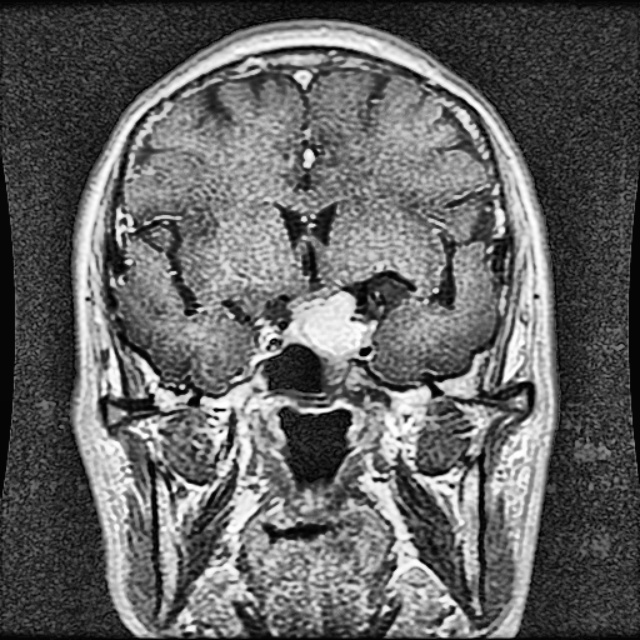Pituitary: (288, 294, 365, 354)
